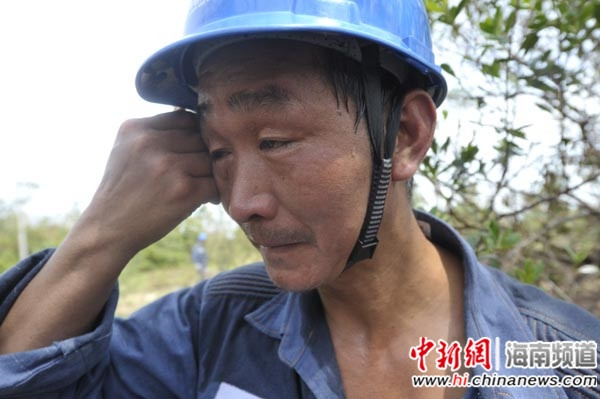blue: (153, 3, 448, 296)
